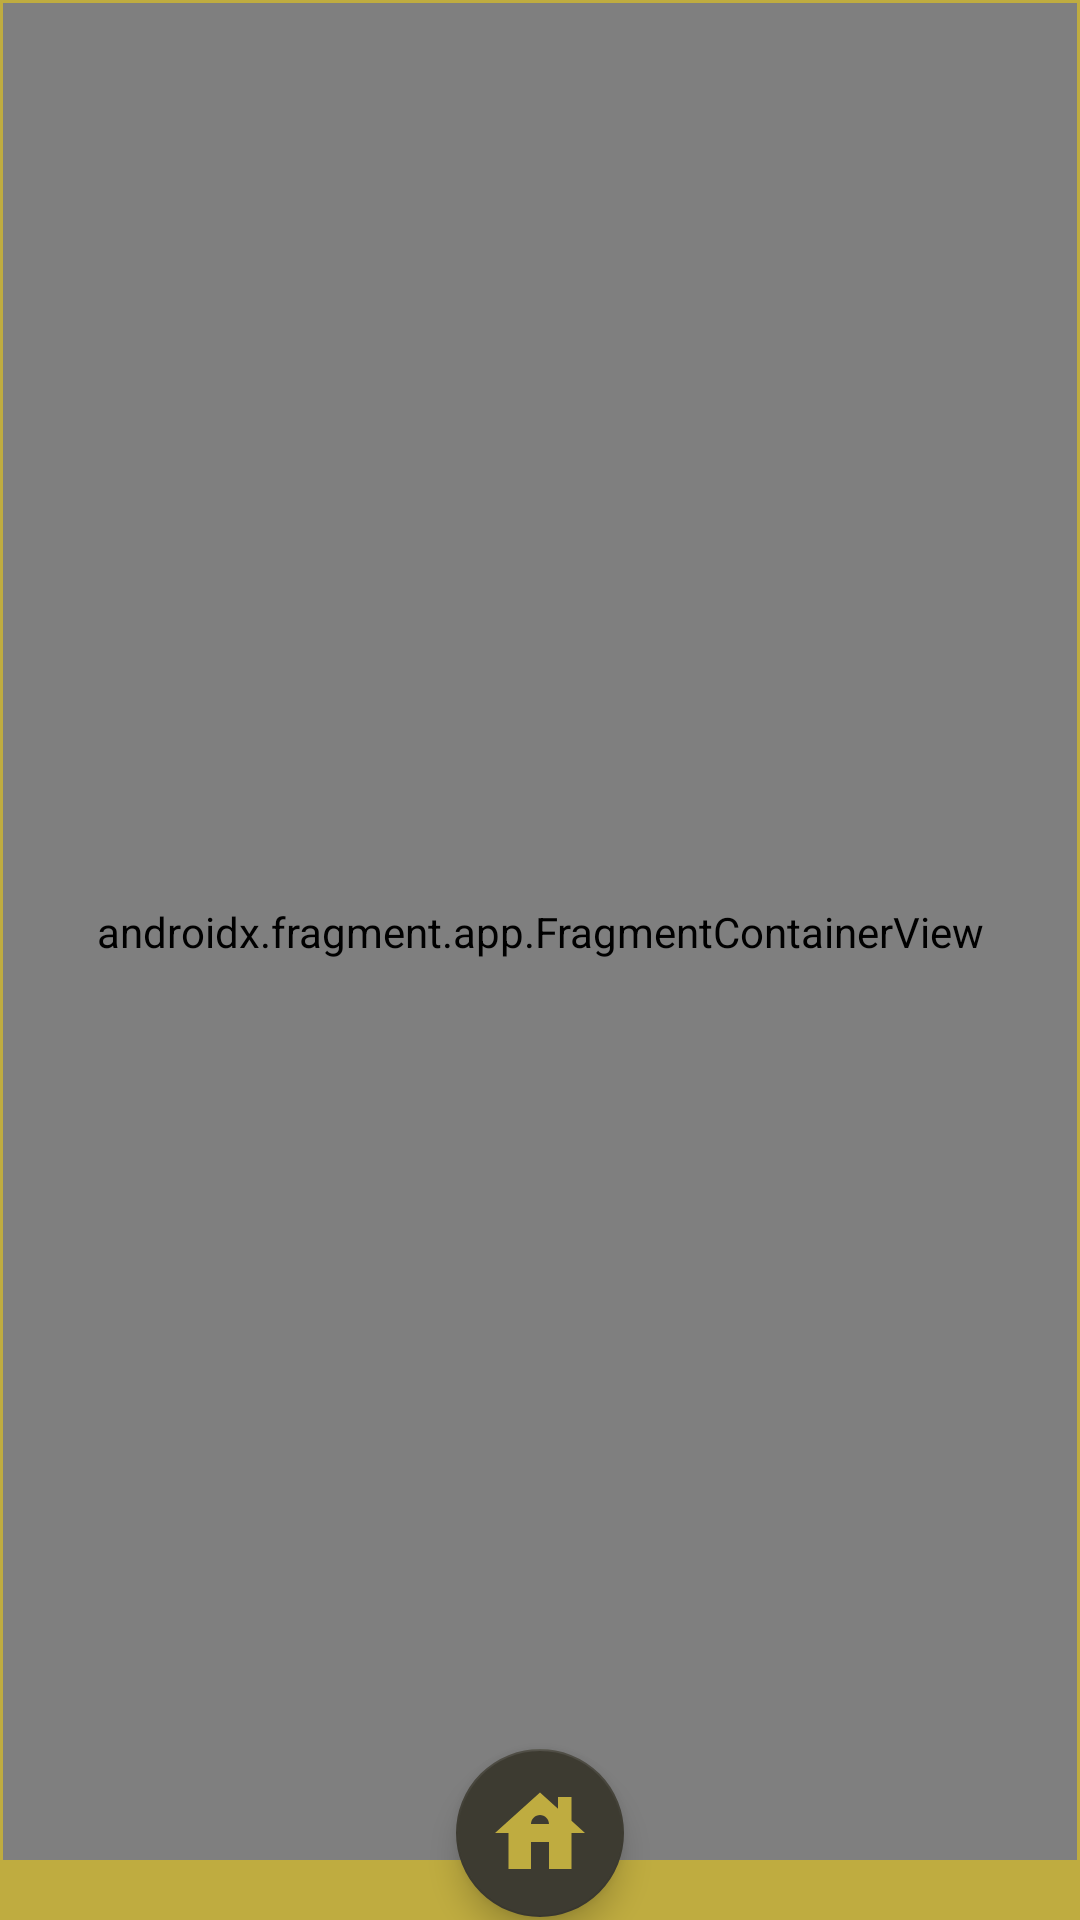

Icon bounding boxes for this 1080×1920 phone screenshot, format (x1, y1, x2, y2):
house: (456, 1749, 624, 1917)
